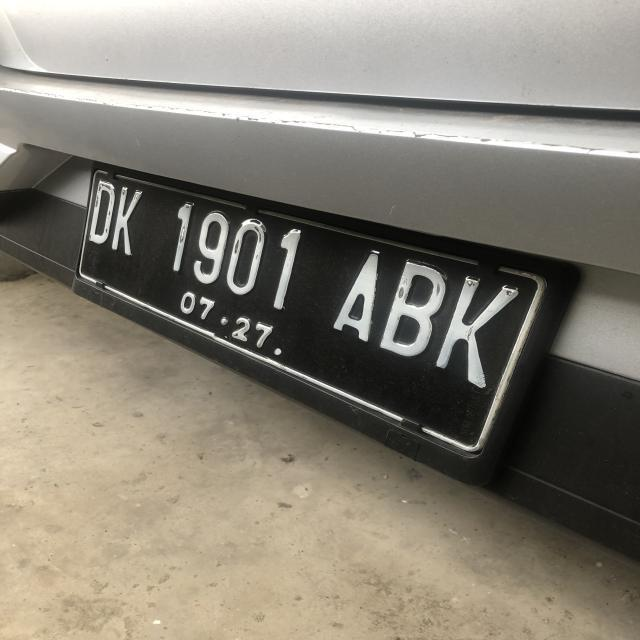0: (225, 220, 265, 296)
1: (265, 224, 309, 310), (168, 200, 196, 274)
9: (192, 208, 231, 286)
A: (322, 247, 380, 341)
B: (380, 264, 440, 354)
D: (86, 180, 116, 248)
K: (437, 277, 518, 389), (110, 188, 140, 256)
